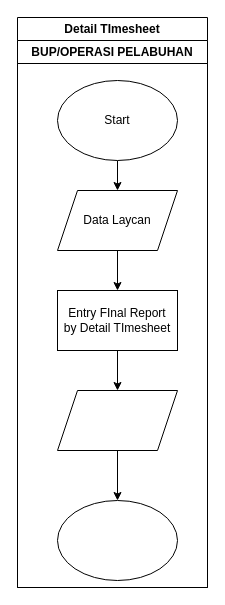
The diagram is 225 pixels wide and 605 high, and some of its shapes have lost their labels. The centre of each missing label's shape, as x and y in pixels:
"End" goes at point (117, 540).
"FInal Report by Detail TImesheet" goes at point (117, 420).
